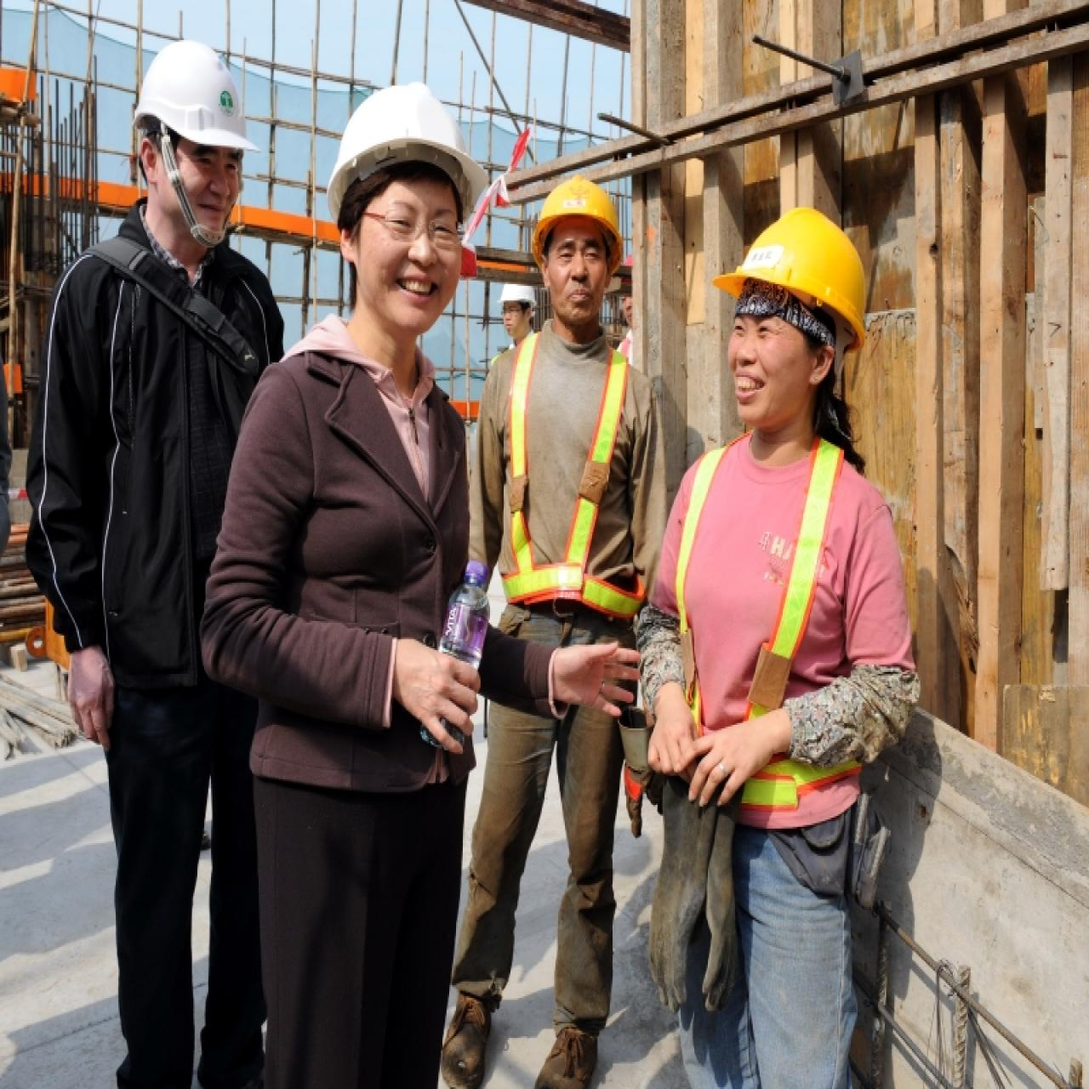NO_Safety_Vest: (40, 241, 292, 669), (238, 331, 469, 785), (668, 427, 925, 834), (489, 335, 659, 626)
Person: (195, 65, 515, 1089), (20, 18, 305, 1089), (624, 191, 921, 1089), (468, 174, 664, 1089), (491, 273, 540, 355), (617, 255, 638, 366)
